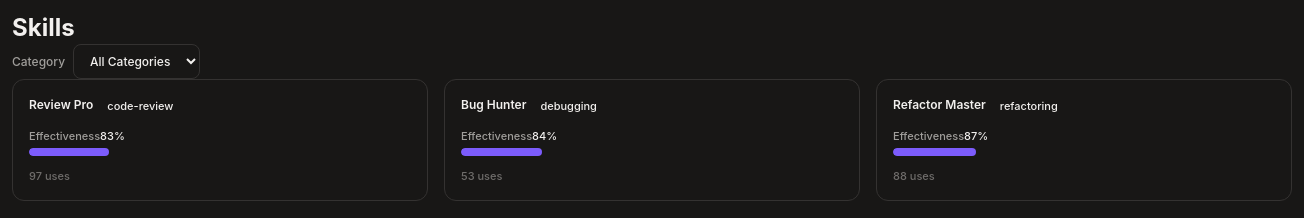
Test case: SkillRegistryPage › filters by category when filter changes
The width and height of the screenshot is (1304, 218).
Expected: the heading "Review Pro" is shown, [29,96,93,114]
Get the category filter select and pick 'code-review'
Select "code-review" in the dropdown labelled "Category" at (136, 62), box [73,44,200,79]
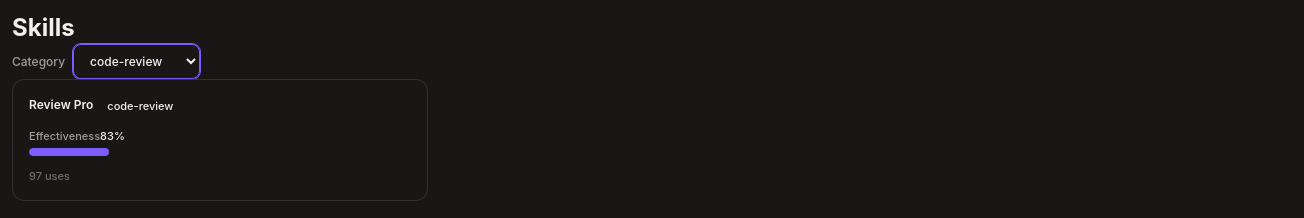
Expected: the heading "Review Pro" is shown, [29,96,93,114]
Result: the button "Bug Hunter" is gone
Result: the button "Refactor Master" is gone
